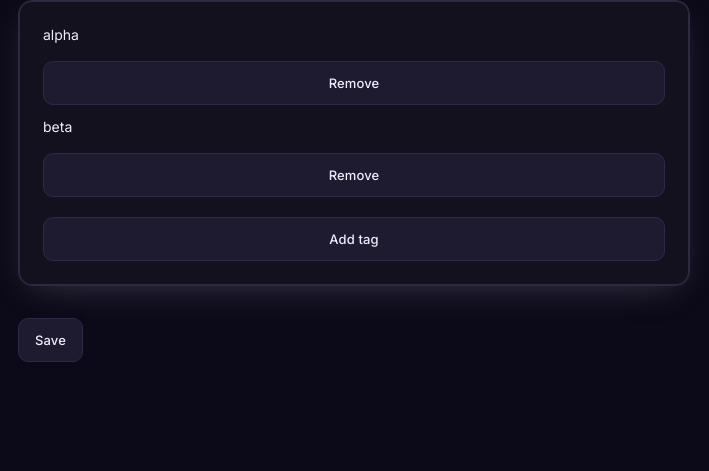
Test case: actions — repeat-add / repeat-remove mutate the in-memory array (UIS-162) › appends a cloned itemDefault and removes an item by its own iteration context
The width and height of the screenshot is (709, 471).
Expected: the text "alpha" is shown, [43,26,79,43]
Expected: the text "beta" is shown, [43,118,72,135]
// repeat-add appends a third row seeded from itemDefault.
Click the button "Add tag" at [354, 239], box [43,217,665,261]
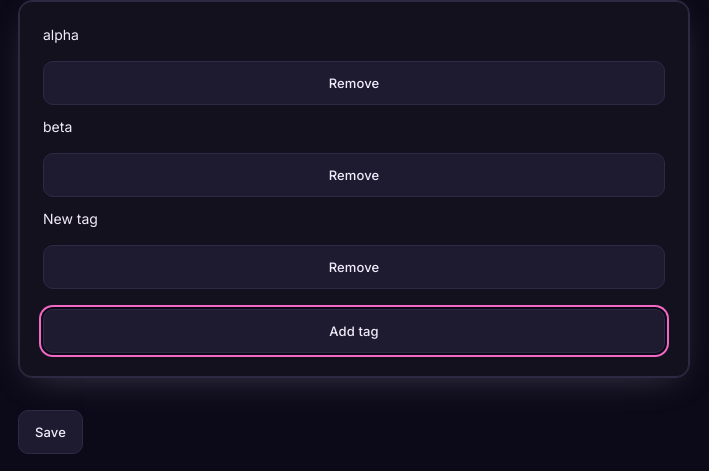
Expected: the text "New tag" is shown, [43,210,98,227]
// repeat-remove on the first row removes exactly that element (no path walk).
Click the button "Remove" below "alpha" at [354, 83], box [43,61,665,105]
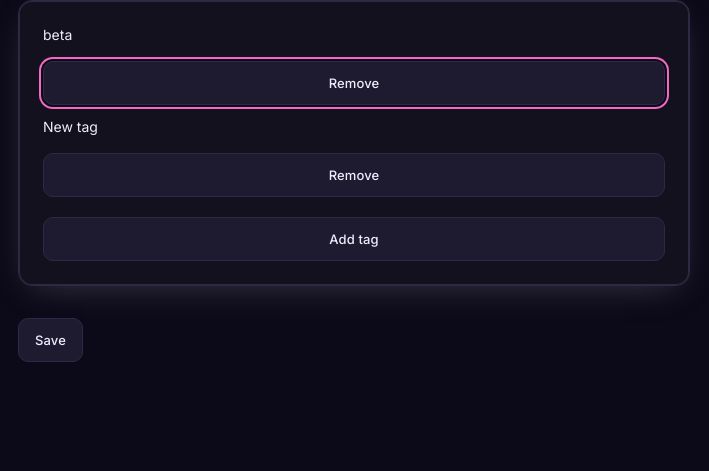
Expected: the text "alpha" is gone
Expected: the text "beta" is shown, [43,26,72,43]
